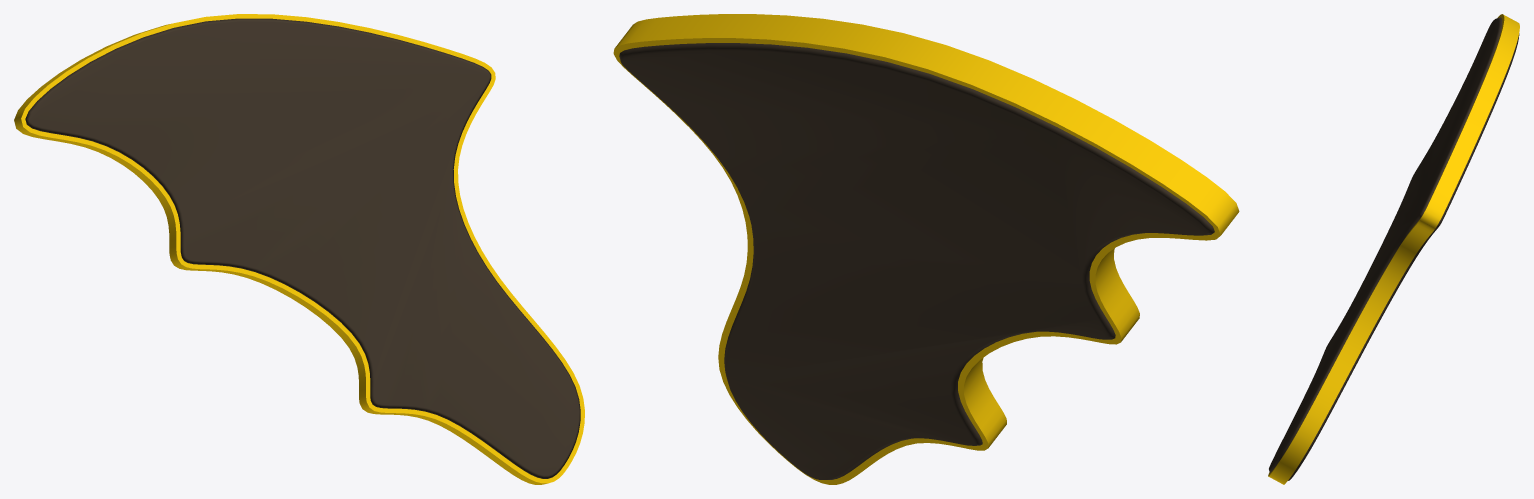
Rendered from batWings.glb.
The picture shows the model from 3 angles, left to right: view 1: azimuth 30°, elevation 25°; view 2: azimuth 150°, elevation 25°; view 3: azimuth 270°, elevation 25°; orthographic projection. The views are drawn at different scales.
Visible parts, largest first — view 1: Plane_006; view 2: Plane_006; view 3: Plane_006.
Boxes of the visible parts, x1,y1,x2,y2 form: Plane_006: (14,14,584,484); Plane_006: (613,14,1239,484); Plane_006: (1268,14,1519,484).
Size of the model in its own units: 1.77 by 1.63 by 1.06.
